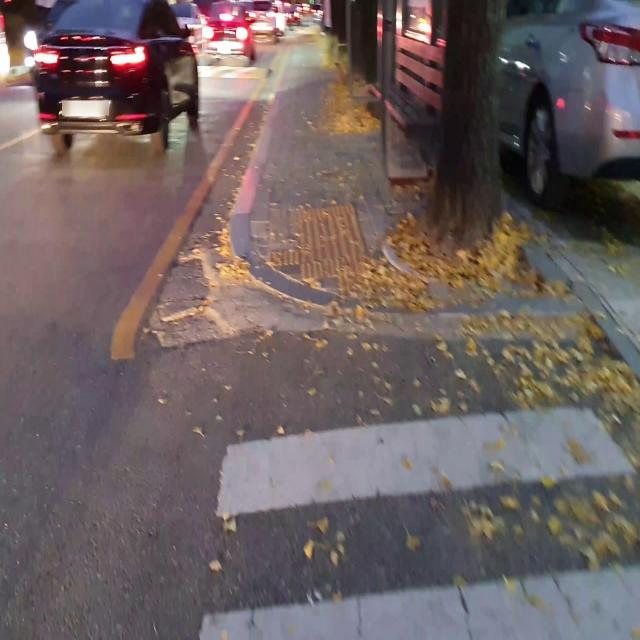crosswalk: (201, 405, 640, 639)
